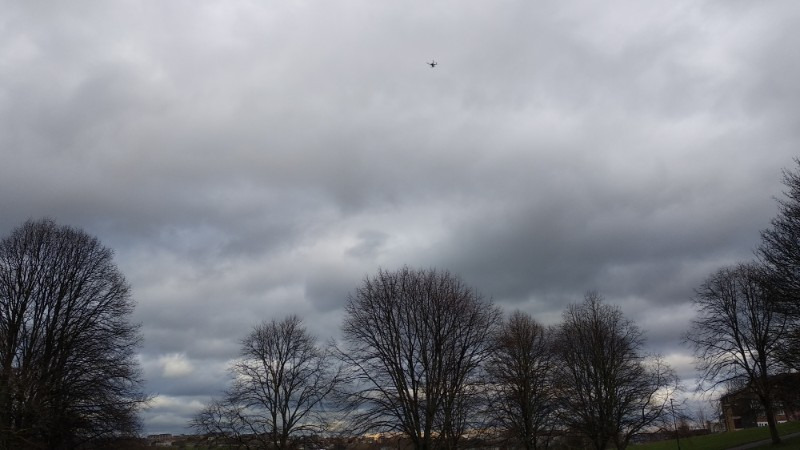drone: (427, 59, 438, 69)
